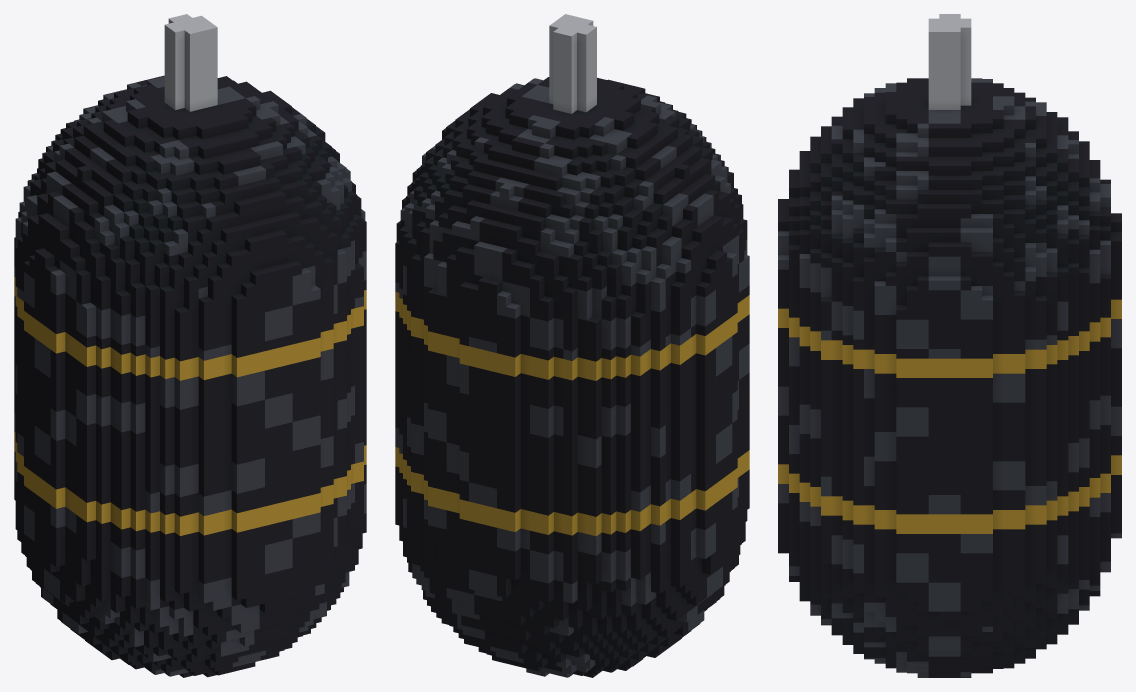
File: tank_xenon_05.glb
3 views of the same model, side by side, from view 1: azimuth 30°, elevation 25°; view 2: azimuth 150°, elevation 25°; view 3: azimuth 270°, elevation 25° (orthographic).
Visible parts, largest first — view 1: tank_xenon_05; view 2: tank_xenon_05; view 3: tank_xenon_05.
Boxes of the visible parts, left/top/right/bottom form: tank_xenon_05: left=14, top=14, right=366, bottom=677; tank_xenon_05: left=395, top=14, right=749, bottom=677; tank_xenon_05: left=778, top=14, right=1121, bottom=677.
Bounding box in the file's own units: 0.5 × 1.02 × 0.5.
